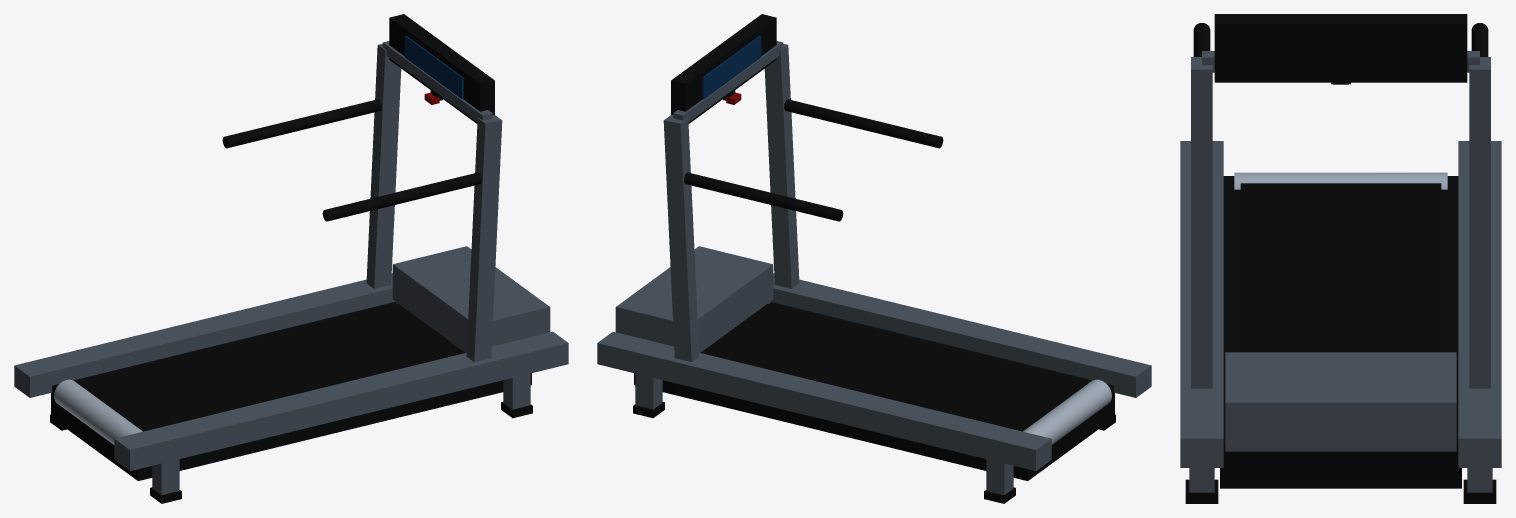
The model's file is cad_treadmill.glb.
3 renders of one model, left to right at view 1: azimuth 30°, elevation 25°; view 2: azimuth 150°, elevation 25°; view 3: azimuth 270°, elevation 25°, orthographic. The views are drawn at different scales.
Parts seen in each view (by area): view 1: 002_Side landing rail, 001_Continuous running belt, 012_Front motor cover, 000_Running deck, 006_Return hand grip, 013_Rear belt roller, 015_Inset display; view 2: 002_Side landing rail, 001_Continuous running belt, 012_Front motor cover, 000_Running deck, 006_Return hand grip, 013_Rear belt roller, 015_Inset display; view 3: 001_Continuous running belt, 000_Running deck, 002_Side landing rail, 012_Front motor cover, 013_Rear belt roller, 006_Return hand grip.
Boxes of the visible parts, x1,y1,x2,y2 form: 002_Side landing rail: (14, 44, 568, 470); 001_Continuous running belt: (50, 304, 532, 503); 012_Front motor cover: (152, 41, 550, 495); 000_Running deck: (51, 14, 531, 480); 006_Return hand grip: (222, 99, 481, 221); 013_Rear belt roller: (54, 379, 142, 444); 015_Inset display: (404, 35, 463, 99); 002_Side landing rail: (597, 44, 1151, 470); 001_Continuous running belt: (633, 304, 1115, 503); 012_Front motor cover: (615, 41, 1013, 495); 000_Running deck: (634, 14, 1114, 480); 006_Return hand grip: (684, 99, 943, 221); 013_Rear belt roller: (1023, 379, 1111, 444); 015_Inset display: (702, 35, 761, 99); 001_Continuous running belt: (1185, 183, 1496, 503); 000_Running deck: (1214, 14, 1467, 488); 002_Side landing rail: (1180, 57, 1501, 467); 012_Front motor cover: (1189, 51, 1492, 492); 013_Rear belt roller: (1234, 172, 1447, 189); 006_Return hand grip: (1193, 23, 1488, 56).
Size of the model in its own units: 1.95 by 1.41 by 0.89.
